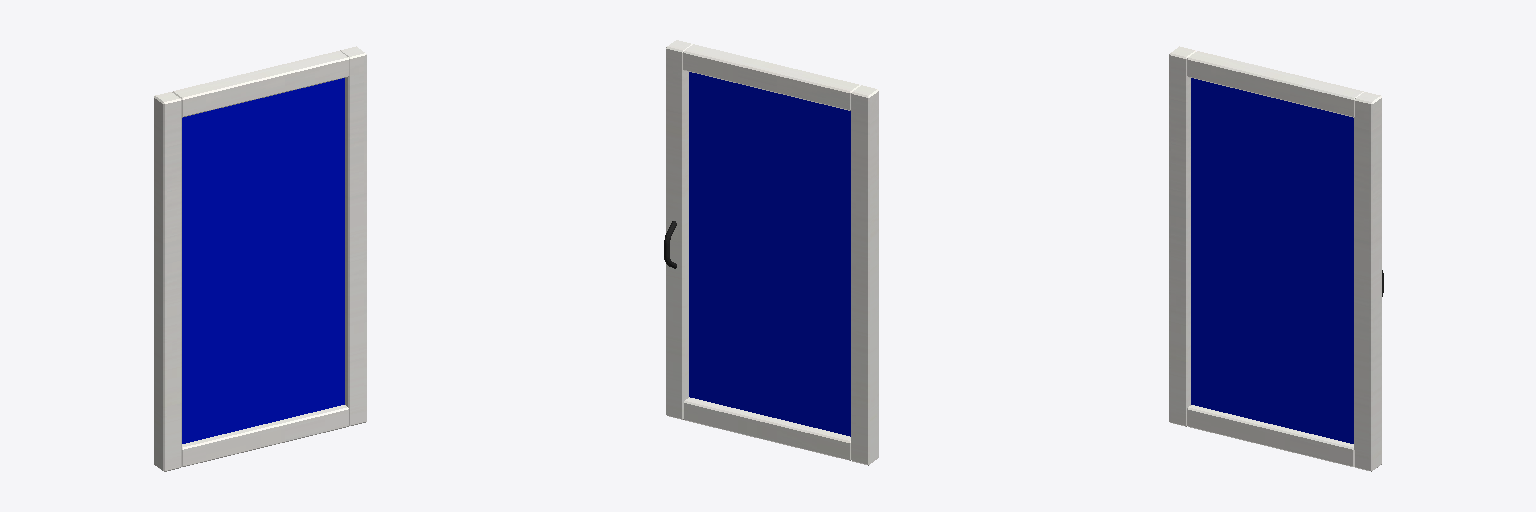
The picture shows the model from 3 angles: view 1: azimuth 30°, elevation 25°; view 2: azimuth 150°, elevation 25°; view 3: azimuth 330°, elevation 25°; orthographic projection.
Parts seen in each view (by area): view 1: Object172, Object173; view 2: Object172, Object173; view 3: Object172, Object173.
Boxes of the visible parts, box(x1,y1,x2,y2) form: Object172: box(182, 78, 344, 443); Object173: box(154, 46, 366, 471); Object172: box(689, 72, 850, 436); Object173: box(666, 40, 878, 465); Object172: box(1191, 78, 1353, 443); Object173: box(1169, 46, 1381, 471).
Bounding box in the file's own units: 438 × 758 × 72.94.
3 materials, 1 textured.